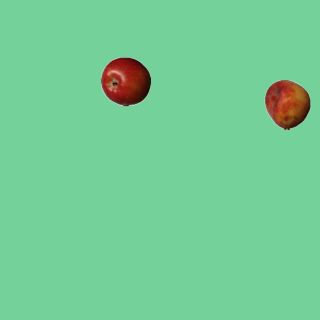Apple Braeburn: (100, 56, 150, 106)
Peach: (262, 79, 312, 129)
